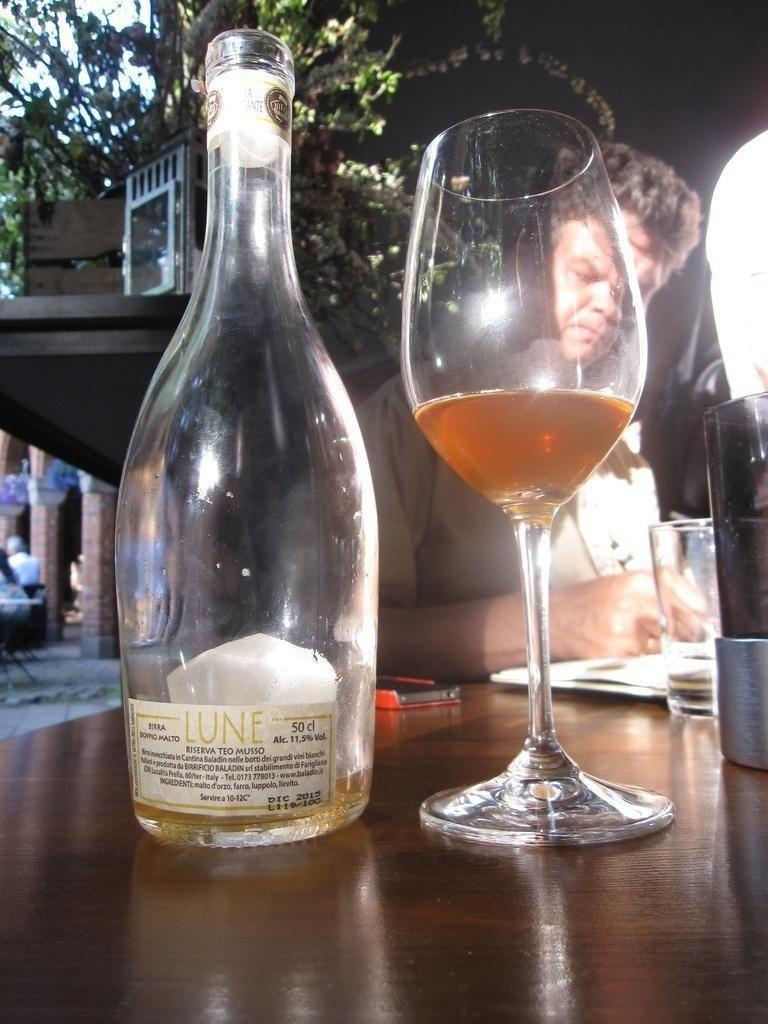bottle-glass: (105, 30, 381, 844)
glass-wine: (398, 109, 673, 844)
